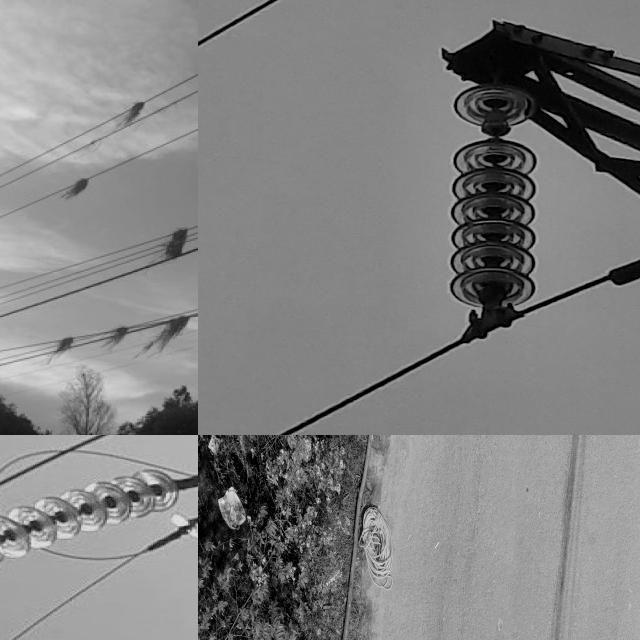植被遮挡: (152, 221, 198, 270), (111, 95, 154, 138), (57, 171, 100, 204)
正常电缆: (268, 245, 640, 435), (198, 0, 302, 56)
正常绝缘子: (0, 444, 198, 585), (448, 72, 544, 330)
绝缘子破损: (477, 115, 518, 138)
